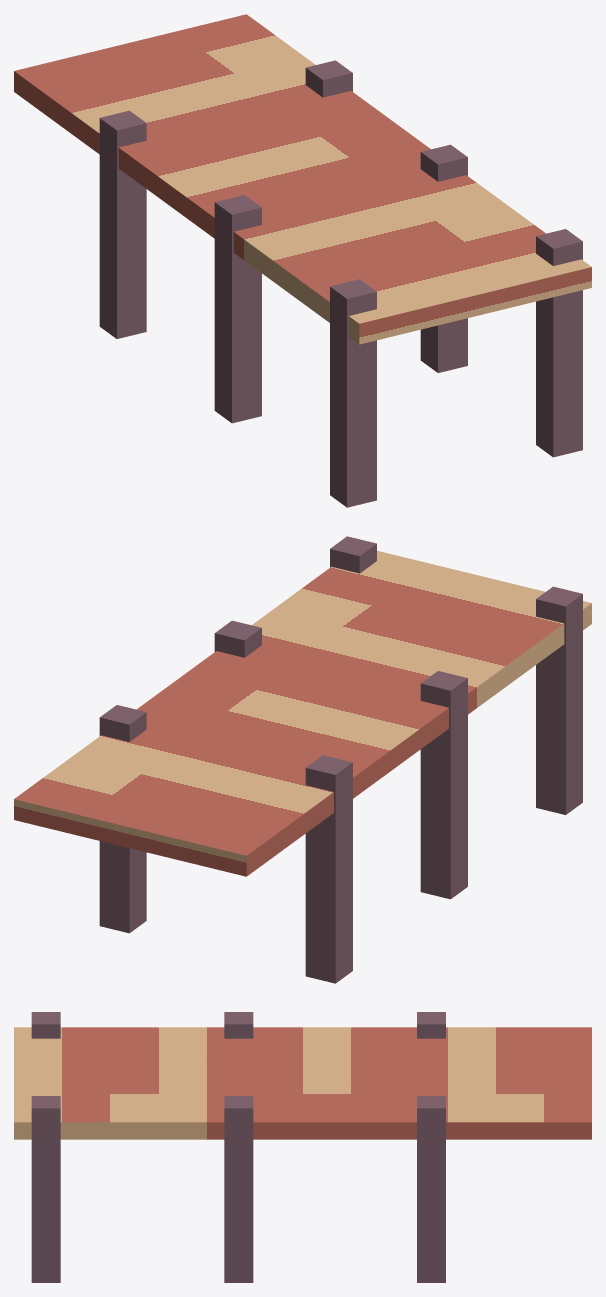
The model's file is pier.glb.
3 renders of one model, top to bottom at view 1: azimuth 30°, elevation 25°; view 2: azimuth 150°, elevation 25°; view 3: azimuth 270°, elevation 25°, orthographic. The views are drawn at different scales.
Parts seen in each view (by area): view 1: Deck, PostC, PostE, PostA, PostB, PostD, PostF; view 2: Deck, PostE, PostC, PostA, PostF, PostD, PostB; view 3: Deck, PostB, PostD, PostF, PostA, PostC, PostE.
Boxes of the visible parts, left/top/right/bottom form: Deck: left=14, top=14, right=591, bottom=344; PostC: left=214, top=195, right=261, bottom=423; PostE: left=99, top=110, right=146, bottom=338; PostA: left=330, top=279, right=376, bottom=507; PostB: left=536, top=229, right=582, bottom=457; PostD: left=420, top=144, right=467, bottom=372; PostF: left=305, top=60, right=352, bottom=97; Deck: left=14, top=550, right=591, bottom=876; PostE: left=305, top=755, right=352, bottom=983; PostC: left=420, top=671, right=467, bottom=899; PostA: left=536, top=586, right=582, bottom=814; PostF: left=99, top=705, right=146, bottom=933; PostD: left=214, top=620, right=261, bottom=657; PostB: left=330, top=536, right=376, bottom=573; Deck: left=14, top=1027, right=591, bottom=1139; PostB: left=31, top=1096, right=60, bottom=1282; PostD: left=224, top=1096, right=253, bottom=1282; PostF: left=417, top=1096, right=445, bottom=1282; PostA: left=31, top=1012, right=60, bottom=1038; PostC: left=224, top=1012, right=253, bottom=1038; PostE: left=417, top=1012, right=445, bottom=1038.
Bounding box in the file's own units: 1.42 × 1.2 × 3.6.
2 materials, 1 textured.
